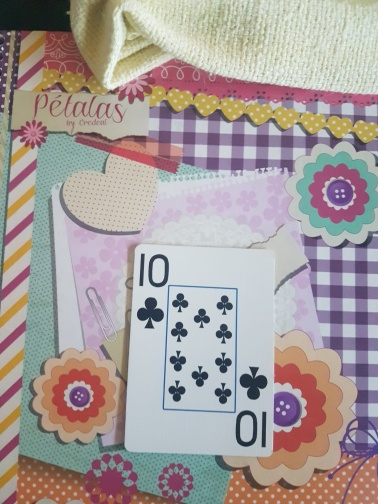ten: (127, 242, 281, 459)
